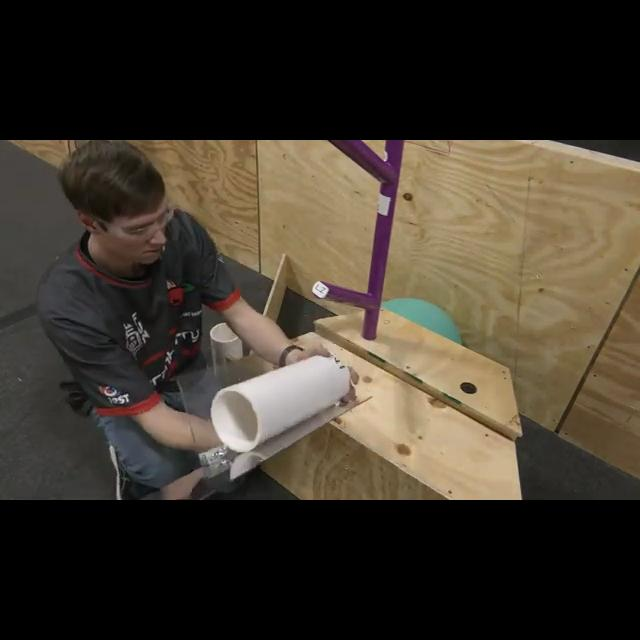CORAL: (209, 353, 351, 453), (210, 322, 243, 372)
